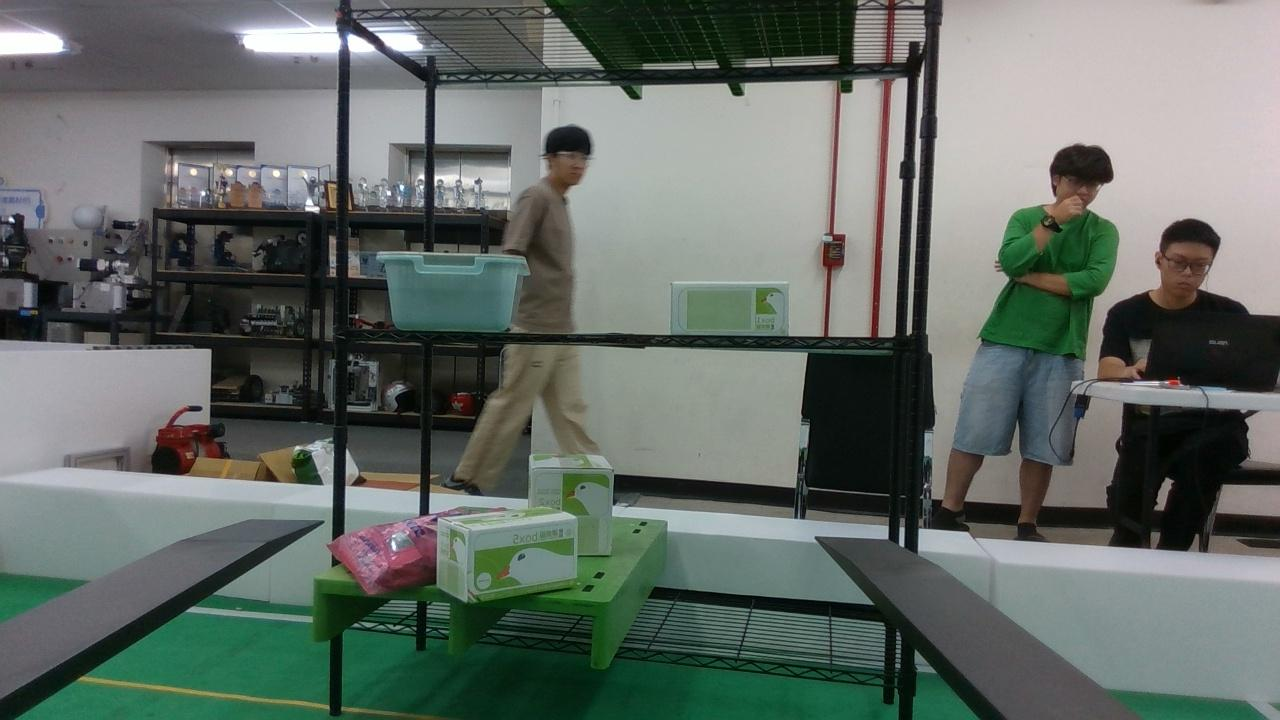Pallet: (314, 578, 610, 667)
